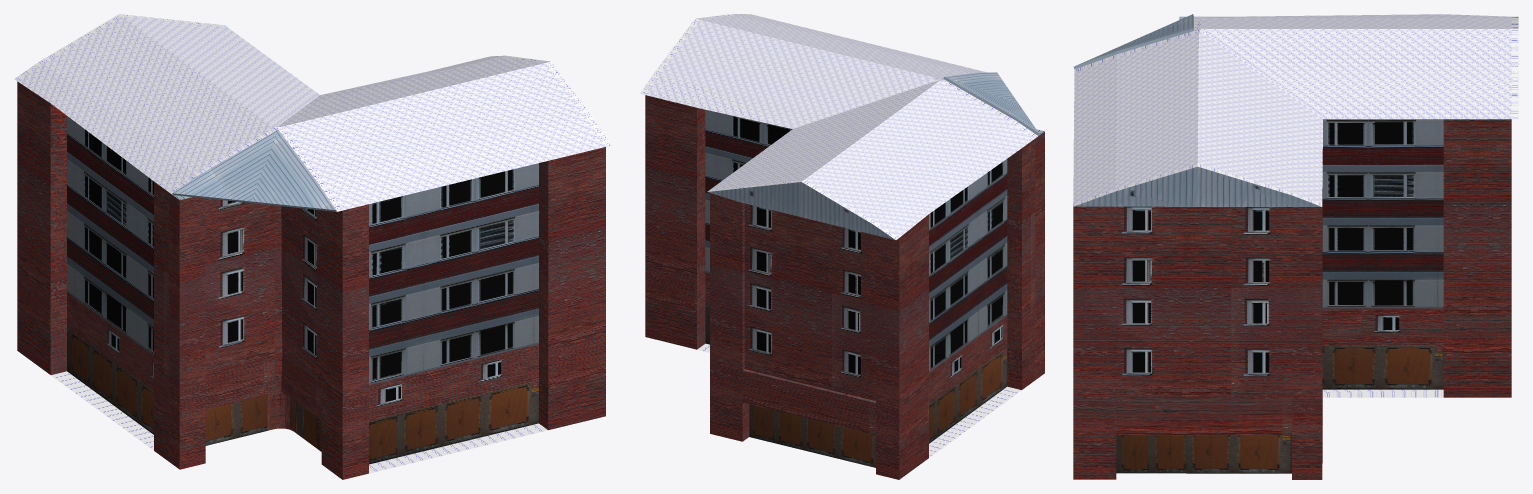
Rendered from kp_building_kaleva_B.glb.
3 views of the same model, side by side, from view 1: azimuth 30°, elevation 25°; view 2: azimuth 150°, elevation 25°; view 3: azimuth 270°, elevation 25° (orthographic). The views are drawn at different scales.
Parts seen in each view (by area): view 1: kaleva-rakennus.002; view 2: kaleva-rakennus.002; view 3: kaleva-rakennus.002.
Boxes of the visible parts, box(x1,y1,x2,y2) form: kaleva-rakennus.002: box(14, 14, 611, 479); kaleva-rakennus.002: box(640, 14, 1044, 479); kaleva-rakennus.002: box(1073, 14, 1518, 479).
Bounding box in the file's own units: 23.67 × 18.34 × 23.36.
Materials: 5 (5 with a texture image).
